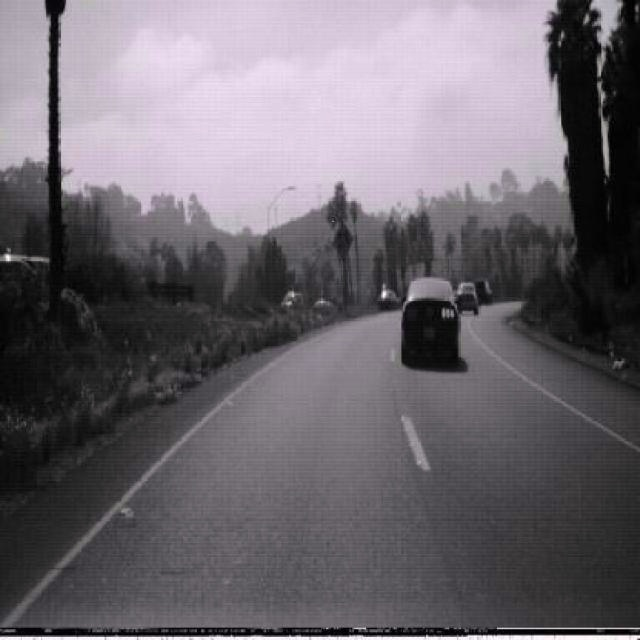addedLane: (332, 217, 353, 263)
